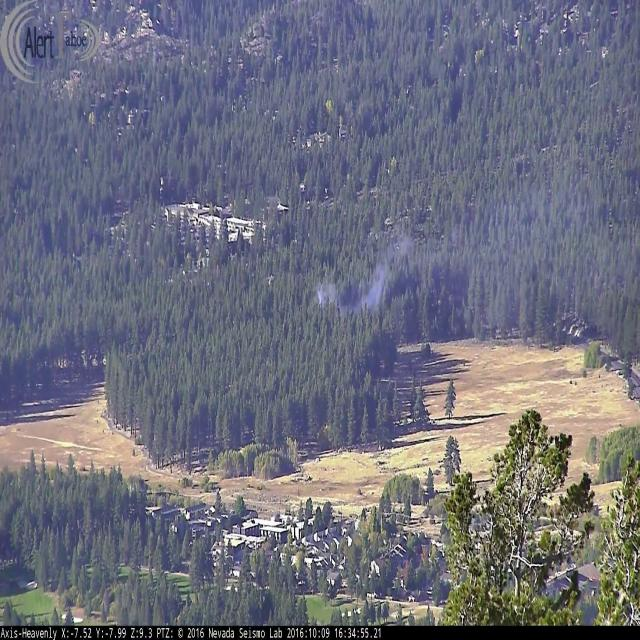smoke: (292, 209, 430, 309)
